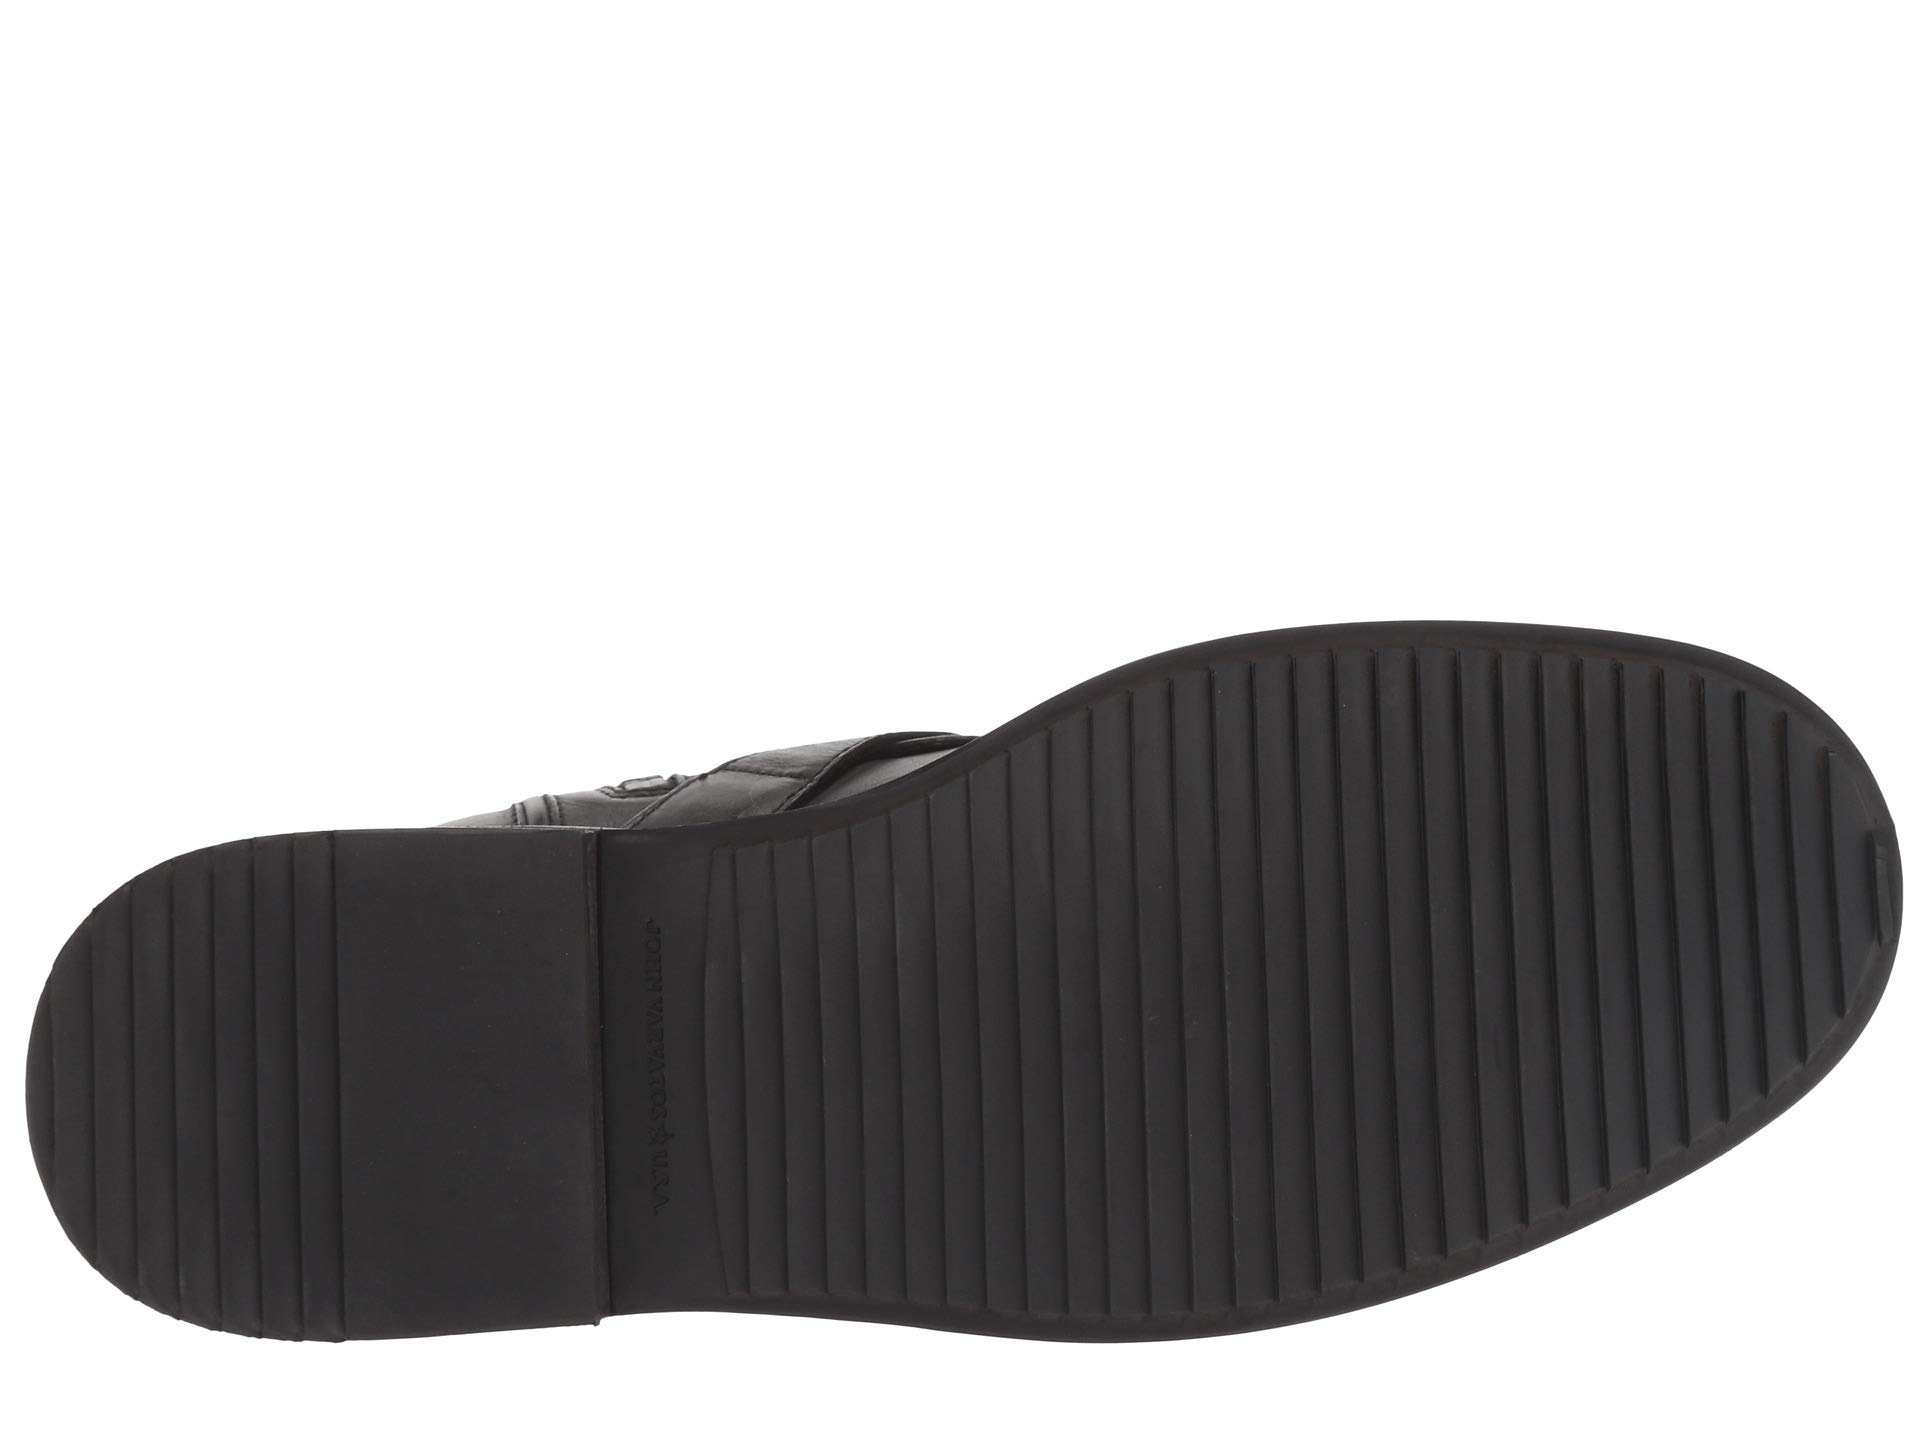line: (1096, 725, 1581, 1085), (721, 882, 1061, 1265), (76, 951, 358, 1262), (1599, 737, 1857, 1016)
